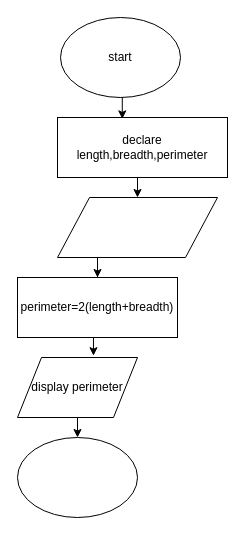
Some shapes in this 245 by 535 pixel diagram are drawn without their labels. The centre of each missing label's shape, as x and y in pixels:
read lenght,breadth: (x=137, y=227)
stop: (x=77, y=477)
